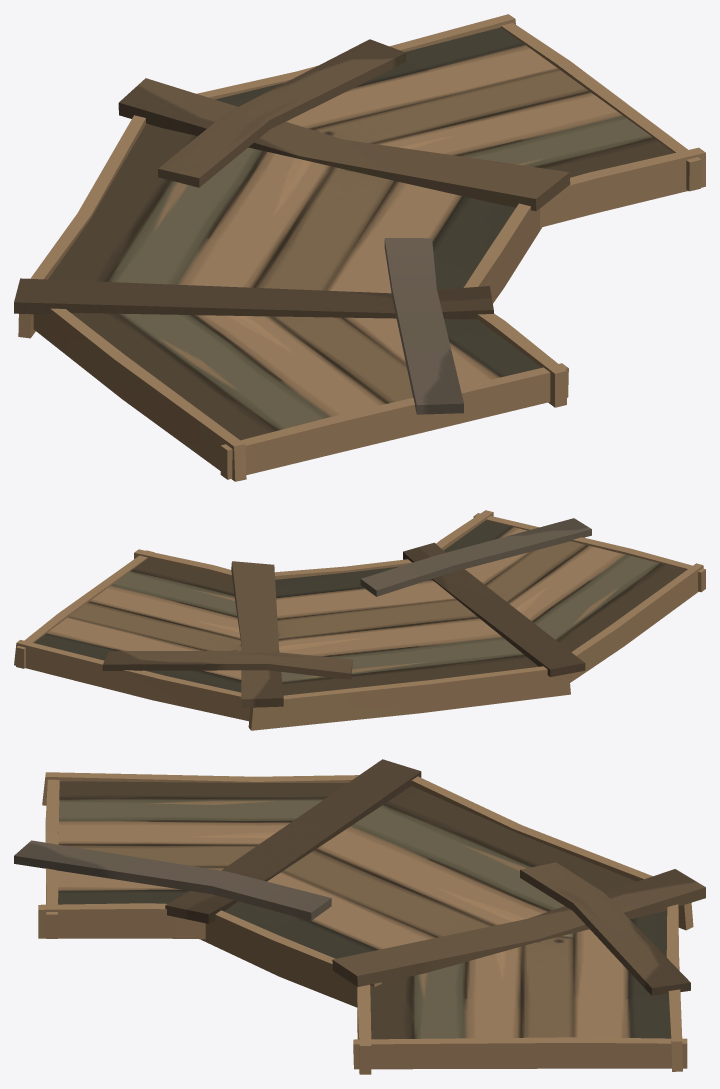
The model's file is SM_Bld_Dock_Corner_01.fbx.
3 views of the same model, one above another, from view 1: azimuth 30°, elevation 25°; view 2: azimuth 150°, elevation 25°; view 3: azimuth 270°, elevation 25° (orthographic). The views are drawn at different scales.
Parts seen in each view (by area): view 1: SM_Bld_Dock_Corner_01; view 2: SM_Bld_Dock_Corner_01; view 3: SM_Bld_Dock_Corner_01.
Part boxes in pixels (<box>): SM_Bld_Dock_Corner_01: <box>14,14,705,481</box>; SM_Bld_Dock_Corner_01: <box>14,510,705,730</box>; SM_Bld_Dock_Corner_01: <box>14,759,705,1074</box>.
Size of the model in its own units: 533 by 44.06 by 554.
